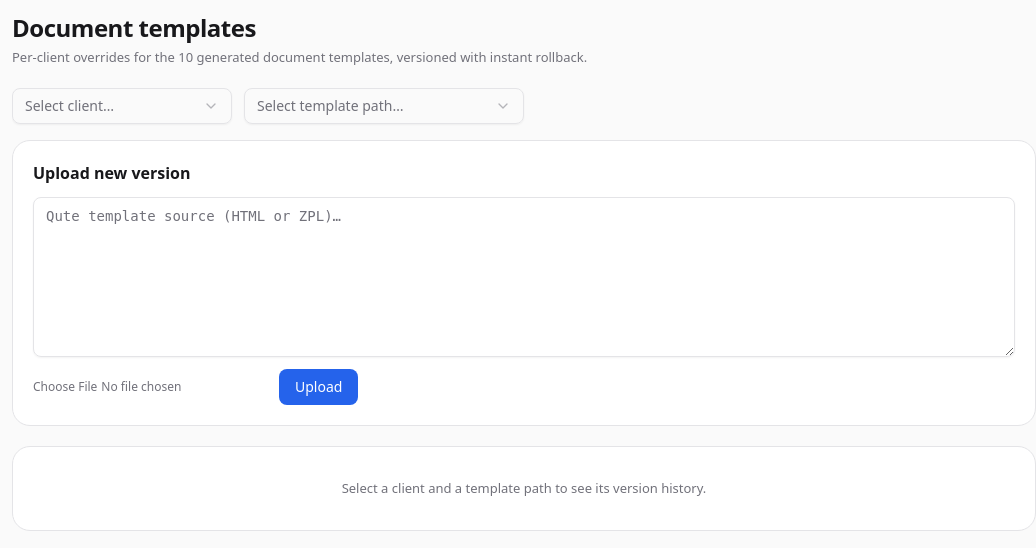
Test case: AdminTemplatesPage › the template-path selector offers all 10 whitelisted paths
The image size is (1036, 548).
What coordinates should you click on to do the following:
click the dropdown with test id "template-path-select"
I would click on:
 (384, 106)
Its box is [244,88,524,124].
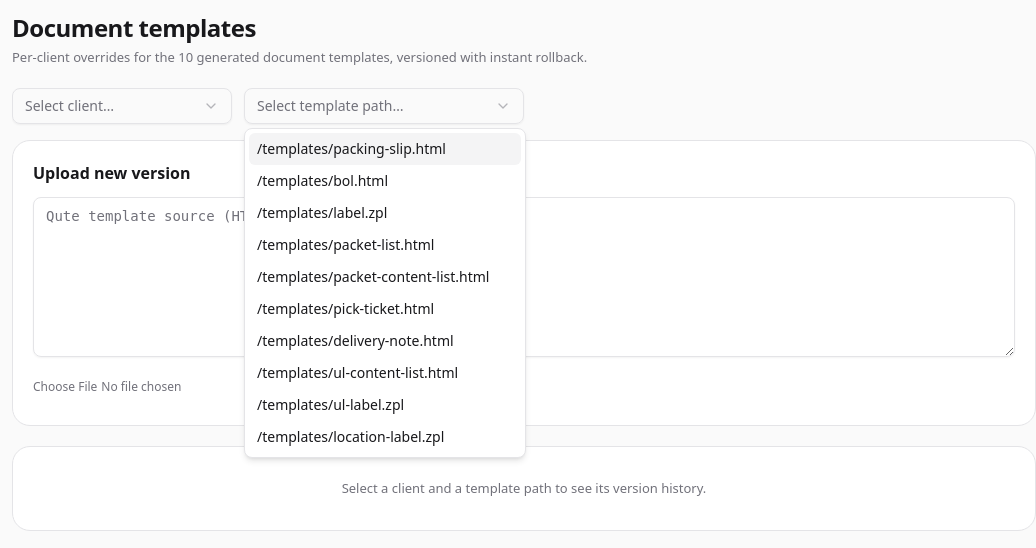
Check: the text "/templates/packing-slip.html" is shown, box [257,139,446,159]
Check: the text "/templates/bol.html" is shown, box [257,171,388,191]
Check: the text "/templates/label.zpl" is shown, box [257,203,387,223]
